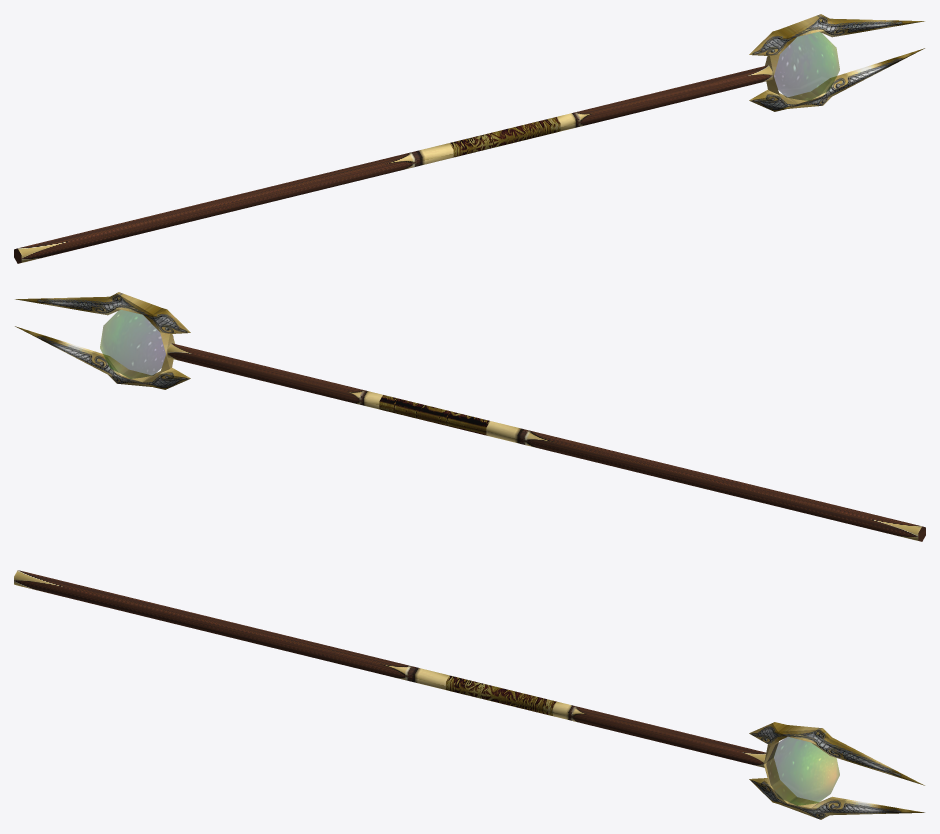
3 views of the same model, one above another, from view 1: azimuth 30°, elevation 25°; view 2: azimuth 150°, elevation 25°; view 3: azimuth 330°, elevation 25° (orthographic).
Parts seen in each view (by area): view 1: it10507; view 2: it10507; view 3: it10507.
Part boxes in pixels (<box>): it10507: <box>14,14,924,263</box>; it10507: <box>15,292,925,541</box>; it10507: <box>14,570,924,819</box>.
Bounding box in the file's own units: 6.05 × 0.5742 × 0.4316.
4 materials, 4 textured.
